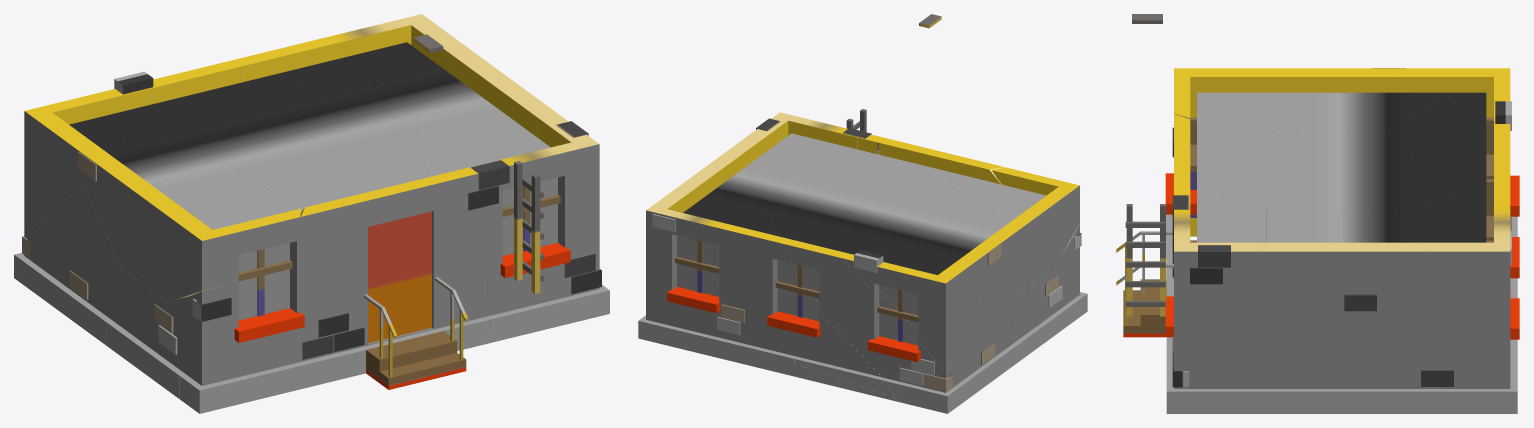
The model's file is House_3_bot_cell.fbx.
3 renders of one model, left to right at view 1: azimuth 30°, elevation 25°; view 2: azimuth 150°, elevation 25°; view 3: azimuth 270°, elevation 25°, orthographic. The views are drawn at different scales.
Parts seen in each view (by area): view 1: polySurface299_cell.012, polySurface301_cell.003, polySurface299_cell.009, polySurface299_cell.005, polySurface299_cell, polySurface299_cell.006, polySurface299_cell.013, polySurface301_cell.010, polySurface299_cell.003, polySurface301_cell.002, polySurface299_cell.001, polySurface299_cell.002 (+22 smaller); view 2: polySurface299_cell.001, polySurface301_cell.003, polySurface299_cell.010, polySurface299_cell.013, polySurface299_cell.005, polySurface299_cell.006, polySurface299_cell.011, polySurface301_cell.002, polySurface301_cell.010, polySurface299_cell.002, polySurface301_cell.012, polySurface301_cell.004 (+15 smaller); view 3: polySurface299_cell.008, polySurface301_cell.003, polySurface299_cell.001, polySurface299_cell.009, polySurface301_cell.010, polySurface301_cell.002, polySurface299_cell.005, polySurface301_cell.004, polySurface299_cell.013, polySurface301_cell.012, polySurface301_cell.001, polySurface301_cell.009 (+16 smaller).
Part boxes in pixels (bbox=[...]): polySurface299_cell.012: bbox=[336, 167, 490, 375]; polySurface301_cell.003: bbox=[202, 81, 435, 200]; polySurface299_cell.009: bbox=[487, 111, 609, 342]; polySurface299_cell.005: bbox=[81, 149, 301, 301]; polySurface299_cell: bbox=[253, 200, 355, 393]; polySurface299_cell.006: bbox=[14, 186, 120, 344]; polySurface299_cell.013: bbox=[24, 77, 170, 230]; polySurface301_cell.010: bbox=[69, 71, 303, 144]; polySurface299_cell.003: bbox=[160, 278, 281, 407]; polySurface301_cell.002: bbox=[87, 137, 267, 209]; polySurface299_cell.001: bbox=[234, 14, 464, 82]; polySurface299_cell.002: bbox=[105, 266, 166, 384]; polySurface299_cell.001: bbox=[638, 186, 797, 375]; polySurface301_cell.003: bbox=[770, 158, 955, 235]; polySurface299_cell.010: bbox=[787, 240, 948, 411]; polySurface299_cell.013: bbox=[842, 247, 989, 370]; polySurface299_cell.005: bbox=[976, 167, 1079, 293]; polySurface299_cell.006: bbox=[937, 275, 1018, 413]; polySurface299_cell.011: bbox=[794, 286, 897, 398]; polySurface301_cell.002: bbox=[912, 200, 1017, 269]; polySurface301_cell.010: bbox=[771, 231, 944, 274]; polySurface299_cell.002: bbox=[1013, 271, 1057, 363]; polySurface301_cell.012: bbox=[764, 133, 894, 169]; polySurface301_cell.004: bbox=[947, 171, 1046, 215]; polySurface299_cell.008: bbox=[1224, 242, 1451, 413]; polySurface301_cell.003: bbox=[1197, 131, 1458, 242]; polySurface299_cell.001: bbox=[1414, 165, 1517, 413]; polySurface299_cell.009: bbox=[1166, 200, 1259, 413]; polySurface301_cell.010: bbox=[1385, 92, 1486, 196]; polySurface301_cell.002: bbox=[1266, 92, 1456, 132]; polySurface299_cell.005: bbox=[1174, 68, 1402, 119]; polySurface301_cell.004: bbox=[1197, 92, 1266, 155]; polySurface299_cell.013: bbox=[1397, 68, 1510, 131]; polySurface301_cell.012: bbox=[1197, 187, 1266, 242]; polySurface301_cell.001: bbox=[1417, 196, 1486, 242]; polySurface301_cell.009: bbox=[1338, 210, 1416, 242].
Bounding box in the file's own units: 1400 × 1063 × 1259.
